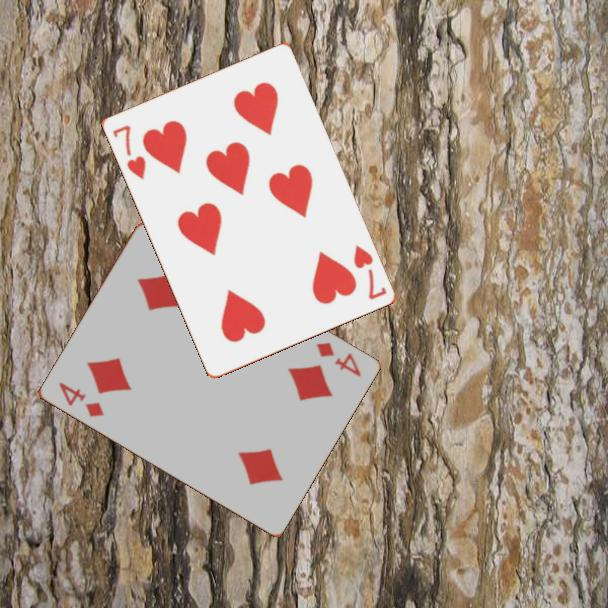d04: (55, 379, 107, 420), (312, 339, 363, 380)
h07: (108, 121, 148, 183), (350, 241, 389, 303)
